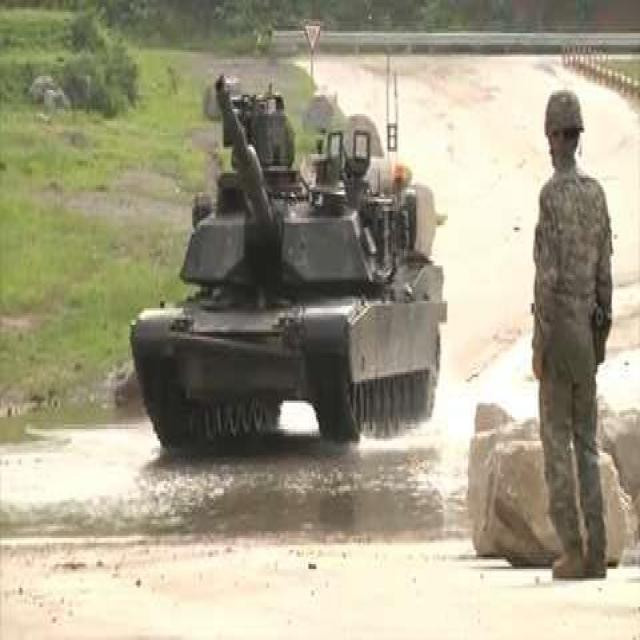Tanks: (132, 72, 448, 442)
